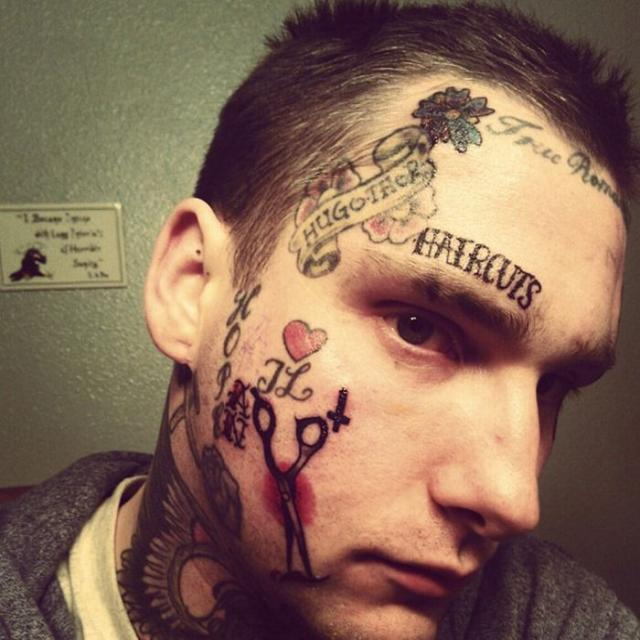earlobe: (143, 197, 213, 369)
